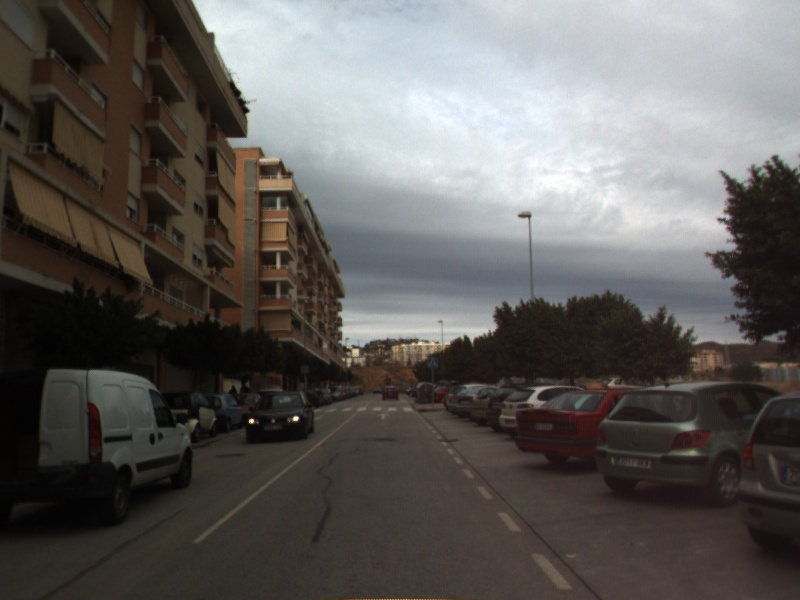STRAIGHT: (375, 411, 392, 421)
